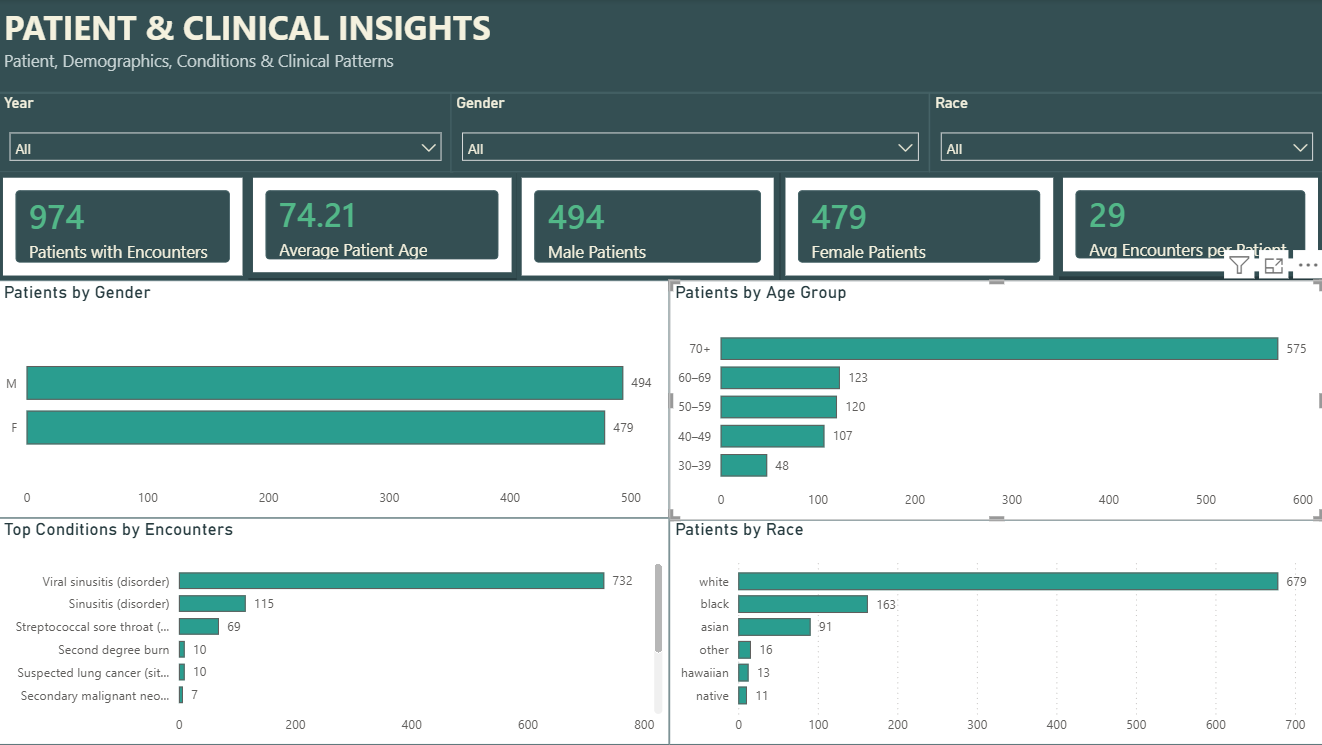

What the dashboard file says about the page in this screenshot:
{"tool":"powerbi","page":{"name":"Patient & Clinical Insights","canvas":[1280,720],"ordinal":1},"visuals":[{"type":"cardVisual","fields":{"Data":["Table.Average Patient Age"]},"box":[241.5,167.4,259.3,101.5],"z":0},{"type":"cardVisual","fields":{"Data":["Table.Male Patients"]},"box":[500.9,167.4,253.9,104.3],"z":1000},{"type":"cardVisual","fields":{"Data":["Table.Female Patients"]},"box":[754.7,167.4,269,104.3],"z":2000},{"type":"cardVisual","fields":{"Data":["Table.Deceased Patients"]},"box":[1023.4,167.4,256.6,100.2],"z":3000},{"type":"textbox","box":[0,0,1280.3,90.5],"z":4000},{"type":"clusteredBarChart","title":"Patients by Race","fields":{"Category":["hospital_db patients.RACE"],"Y":["Table.Total Patients"]},"box":[647.9,500.7,632.2,219.6],"z":8000},{"type":"slicer","title":"Year","fields":{"Values":["hospital_db encounters.Year"]},"box":[0,90.5,439,77],"z":9000},{"type":"slicer","title":"Gender","fields":{"Values":["hospital_db patients.GENDER"]},"box":[436.4,90.6,462.4,76.8],"z":10000},{"type":"slicer","title":"Race","fields":{"Values":["hospital_db patients.RACE"]},"box":[898.8,90.6,381.5,76.8],"z":11000},{"type":"cardVisual","fields":{"Data":["Table.Patients with Encounters"]},"box":[0,167.4,241.5,104.3],"z":12000},{"type":"clusteredBarChart","title":"Patients by Gender","fields":{"Category":["hospital_db patients.GENDER"],"Y":["Table.Total Patients"]},"box":[0,271.4,647.9,229.2],"z":12001},{"type":"clusteredBarChart","title":"Patients by Age Group","fields":{"Category":["hospital_db patients.Age Group"],"Y":["Table.Total Patients"]},"box":[647.9,271.4,632.2,231.6],"z":12002},{"type":"clusteredBarChart","title":"Top Conditions by Encounters","fields":{"Category":["hospital_db encounters.REASONDESCRIPTION"],"Y":["Table.Total Encounters"]},"box":[0,500.9,647.7,219.6],"z":12003}]}

Visuals, with their boxes in screenshot pixels (x1, y1, x2, y2), scaled from the page's 1280x720 canvas onto the 1322x745 screenshot:
cardVisual - Table.Average Patient Age: x1=249 y1=173 x2=517 y2=278
cardVisual - Table.Male Patients: x1=517 y1=173 x2=780 y2=281
cardVisual - Table.Female Patients: x1=779 y1=173 x2=1057 y2=281
cardVisual - Table.Deceased Patients: x1=1057 y1=173 x2=1321 y2=277
textbox: x1=0 y1=0 x2=1321 y2=94
"Patients by Race" clusteredBarChart: x1=669 y1=518 x2=1321 y2=744
"Year" slicer: x1=0 y1=94 x2=453 y2=173
"Gender" slicer: x1=451 y1=94 x2=928 y2=173
"Race" slicer: x1=928 y1=94 x2=1321 y2=173
cardVisual - Table.Patients with Encounters: x1=0 y1=173 x2=249 y2=281
"Patients by Gender" clusteredBarChart: x1=0 y1=281 x2=669 y2=518
"Patients by Age Group" clusteredBarChart: x1=669 y1=281 x2=1321 y2=520
"Top Conditions by Encounters" clusteredBarChart: x1=0 y1=518 x2=669 y2=744
